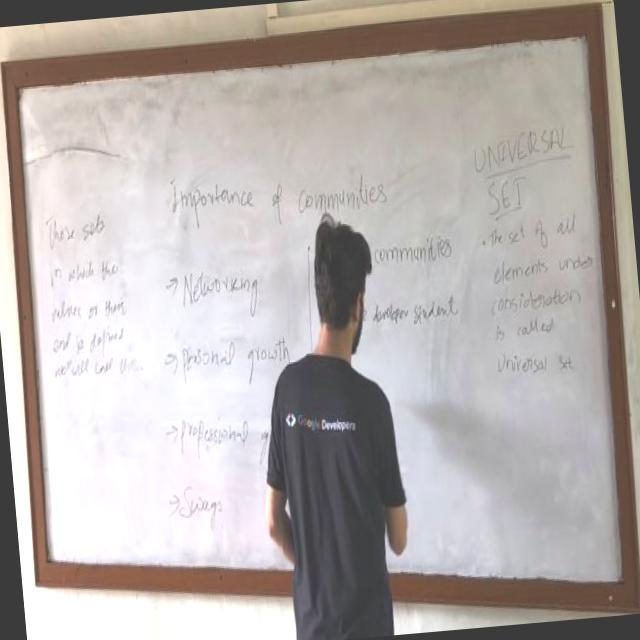Instructor: (248, 213, 409, 640)
White-board: (11, 23, 631, 601)
